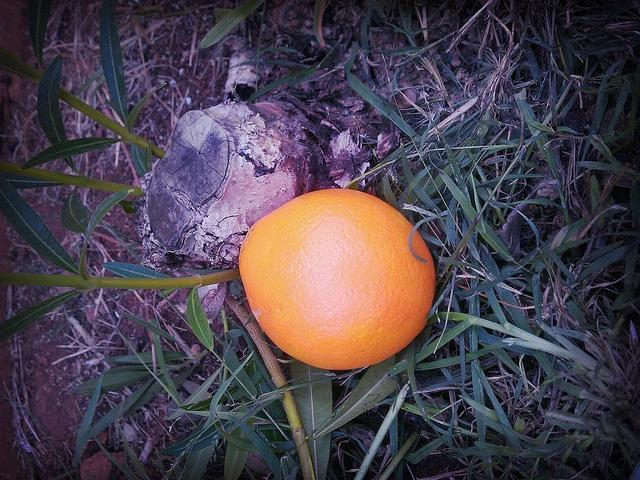orange: (237, 188, 435, 371)
